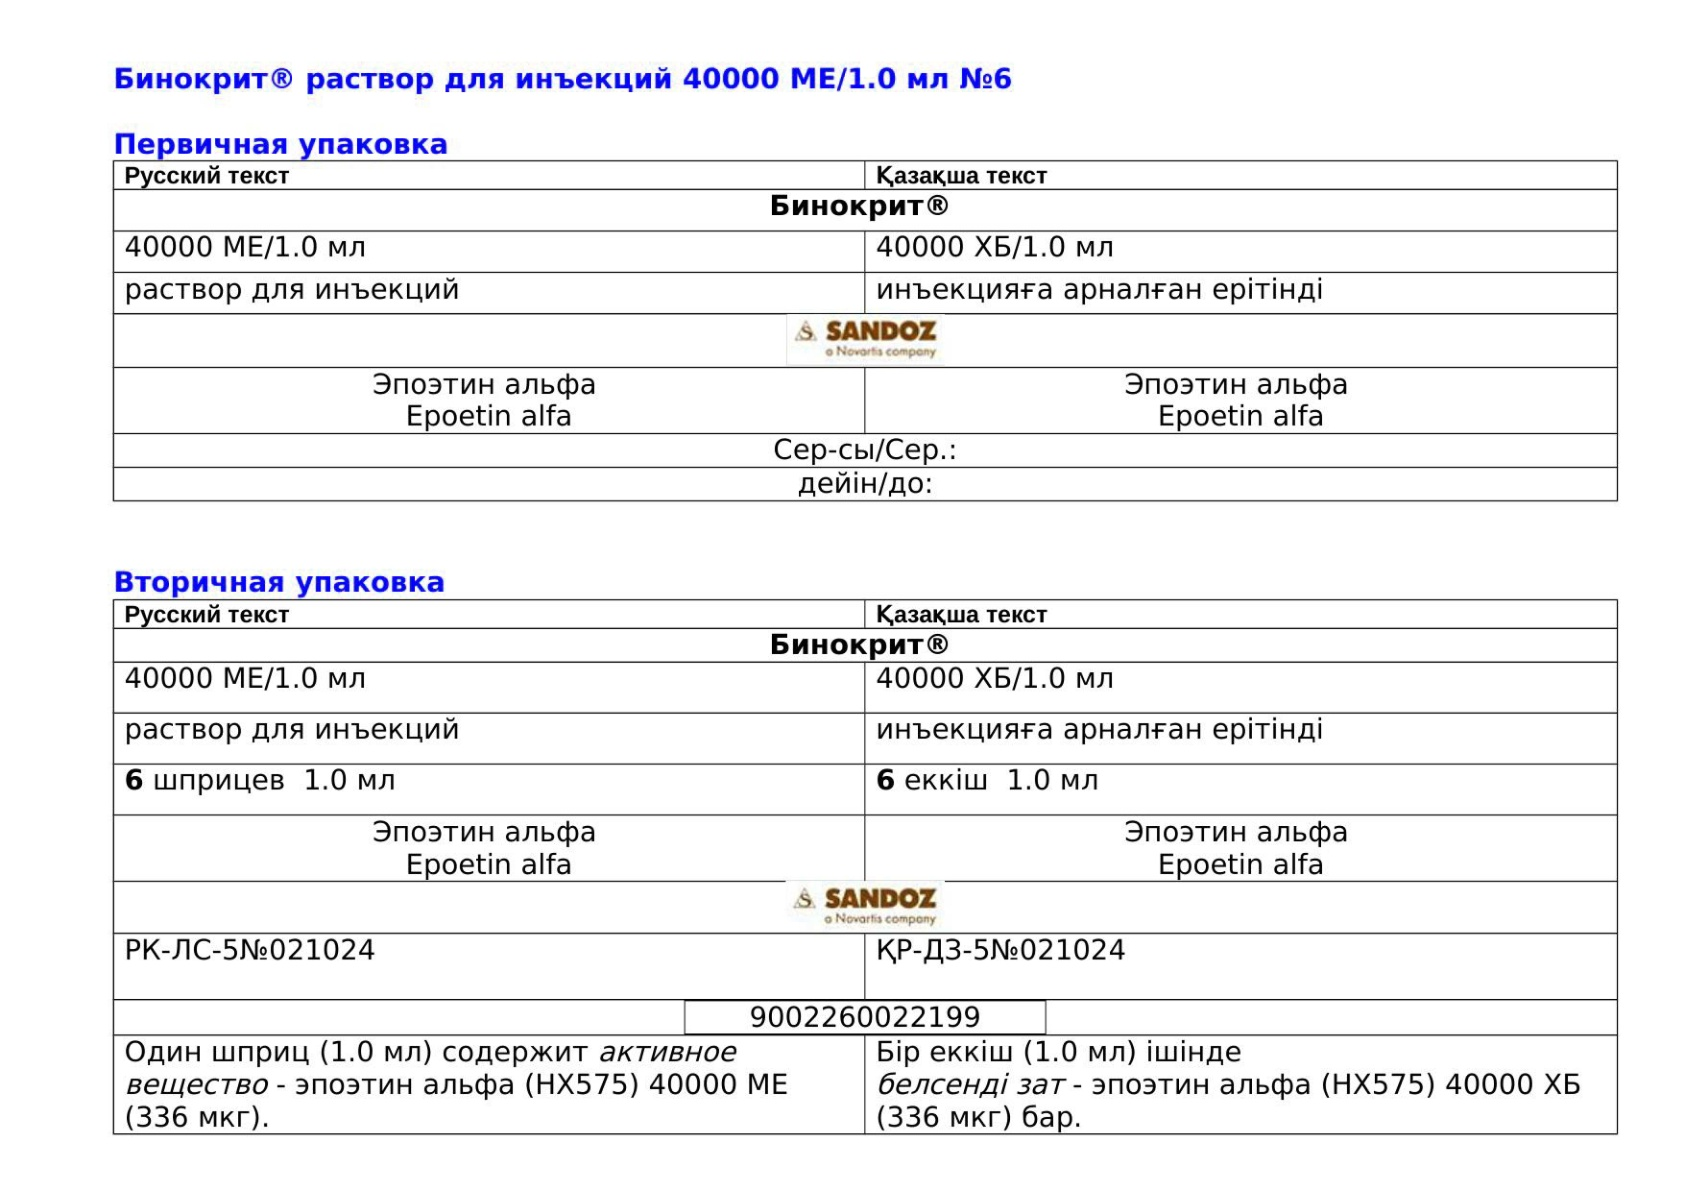merged_cells: (112, 598, 1619, 1136), (111, 160, 1619, 503)
